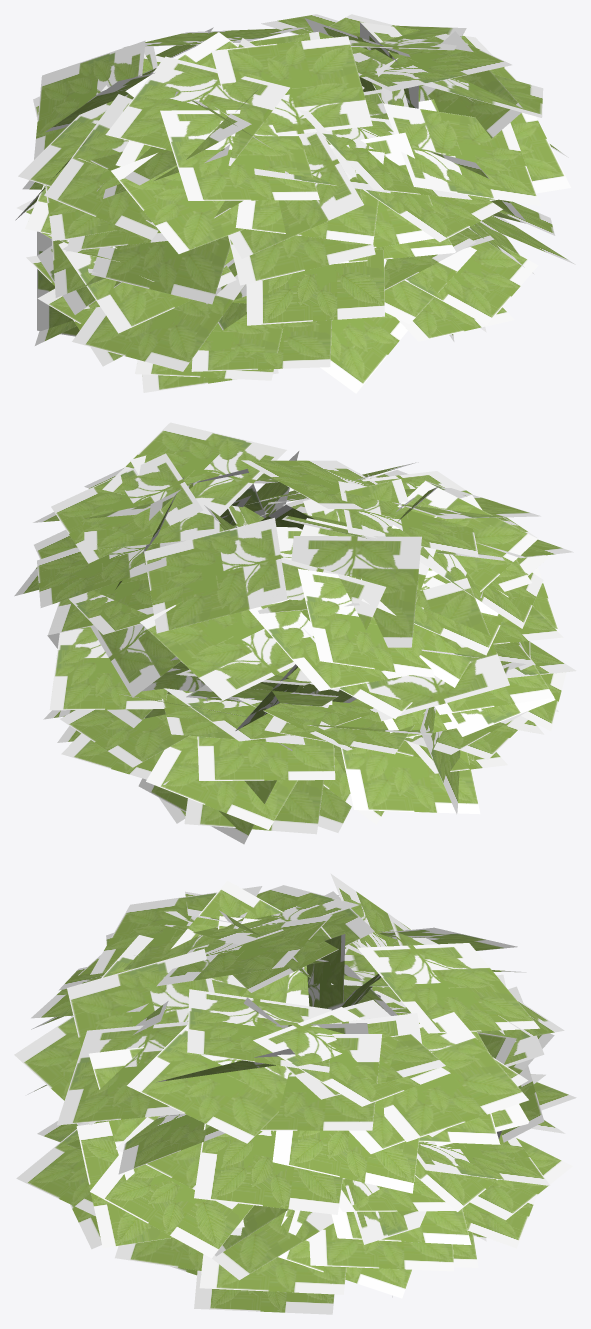
File: arbuste-1.glb
3 views of the same model, one above another, from view 1: azimuth 30°, elevation 25°; view 2: azimuth 150°, elevation 25°; view 3: azimuth 270°, elevation 25° (orthographic). The views are drawn at different scales.
Parts seen in each view (by area): view 1: leaves; view 2: leaves; view 3: leaves.
Part boxes in pixels (x1,y1,x2,y2): leaves: (15,14,575,393); leaves: (14,422,576,844); leaves: (14,873,576,1314).
Size of the model in its own units: 4.17 by 2.37 by 3.88.
1 material, 1 textured.
